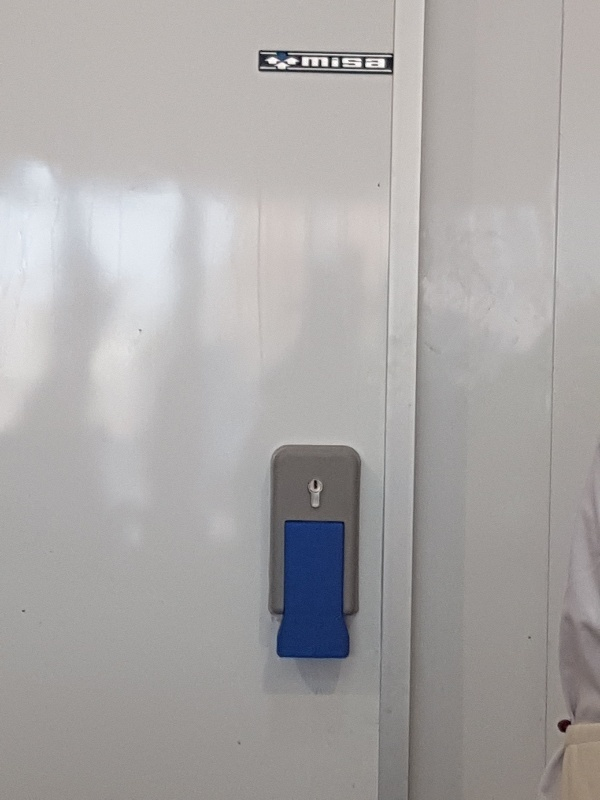text: (305, 56, 320, 69), (321, 56, 336, 69), (337, 56, 352, 69), (353, 56, 368, 69), (369, 56, 384, 69), (302, 56, 304, 69), (385, 56, 387, 69)
